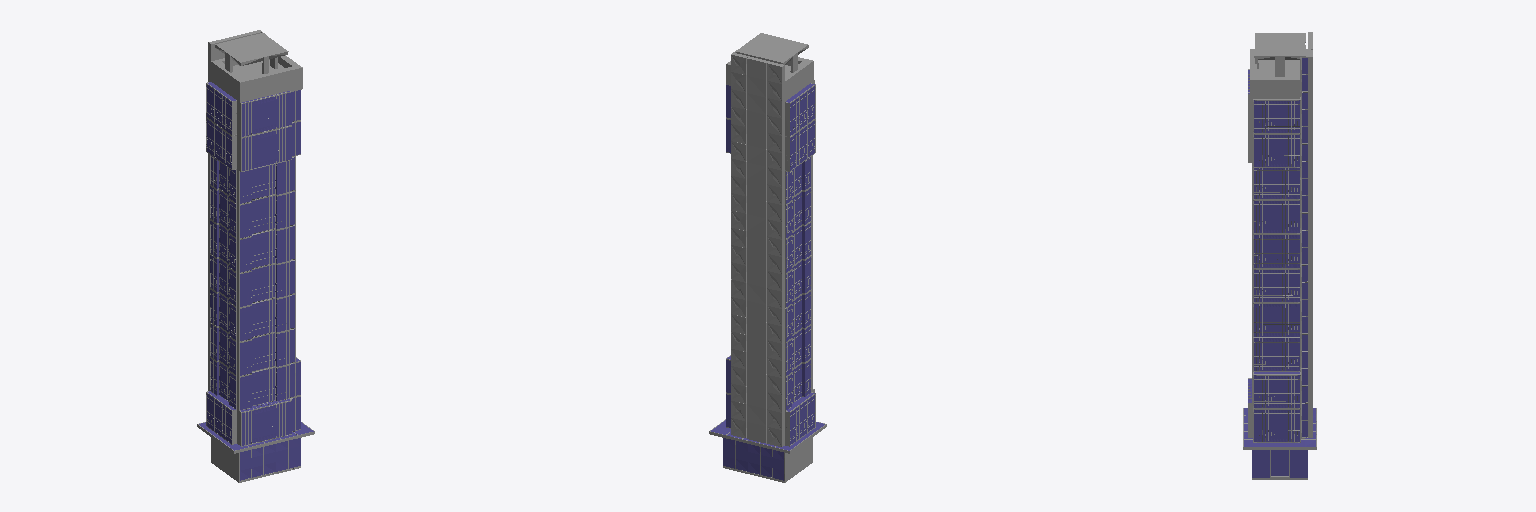
File: skyscraper3.obj
3 views of the same model, side by side, from view 1: azimuth 30°, elevation 25°; view 2: azimuth 150°, elevation 25°; view 3: azimuth 270°, elevation 25° (orthographic).
Visible parts, largest first — view 1: skyscraper7_Cube.043; view 2: skyscraper7_Cube.043; view 3: skyscraper7_Cube.043.
Boxes of the visible parts, x1,y1,x2,y2 form: skyscraper7_Cube.043: [197, 30, 314, 482]; skyscraper7_Cube.043: [709, 33, 826, 482]; skyscraper7_Cube.043: [1243, 32, 1316, 479].
Size of the model in its own units: 11.21 by 55.43 by 8.88.